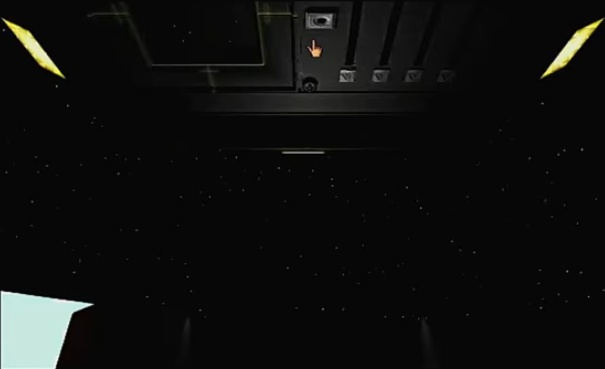Pointer: (303, 36, 326, 60)
